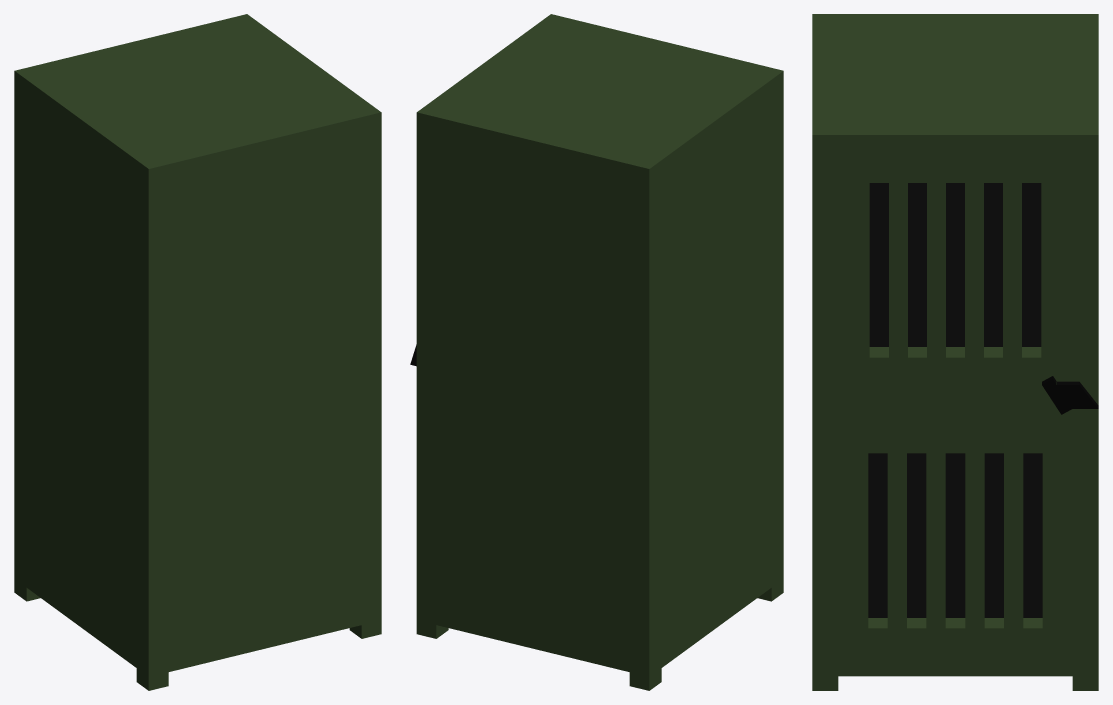
Rendered from szawka.fbx.
3 views of the same model, side by side, from view 1: azimuth 30°, elevation 25°; view 2: azimuth 150°, elevation 25°; view 3: azimuth 270°, elevation 25° (orthographic). The views are drawn at different scales.
Parts seen in each view (by area): view 1: Cube; view 2: Cube; view 3: Cube.
Boxes of the visible parts, bbox=[...] form: Cube: bbox=[14, 14, 381, 690]; Cube: bbox=[410, 14, 783, 690]; Cube: bbox=[812, 14, 1098, 690].
Bounding box in the file's own units: 206 × 429 × 200.
